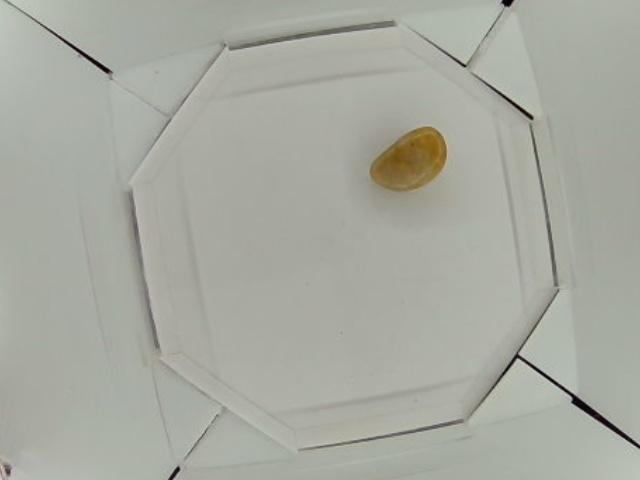Pebble: (369, 126, 449, 191)
